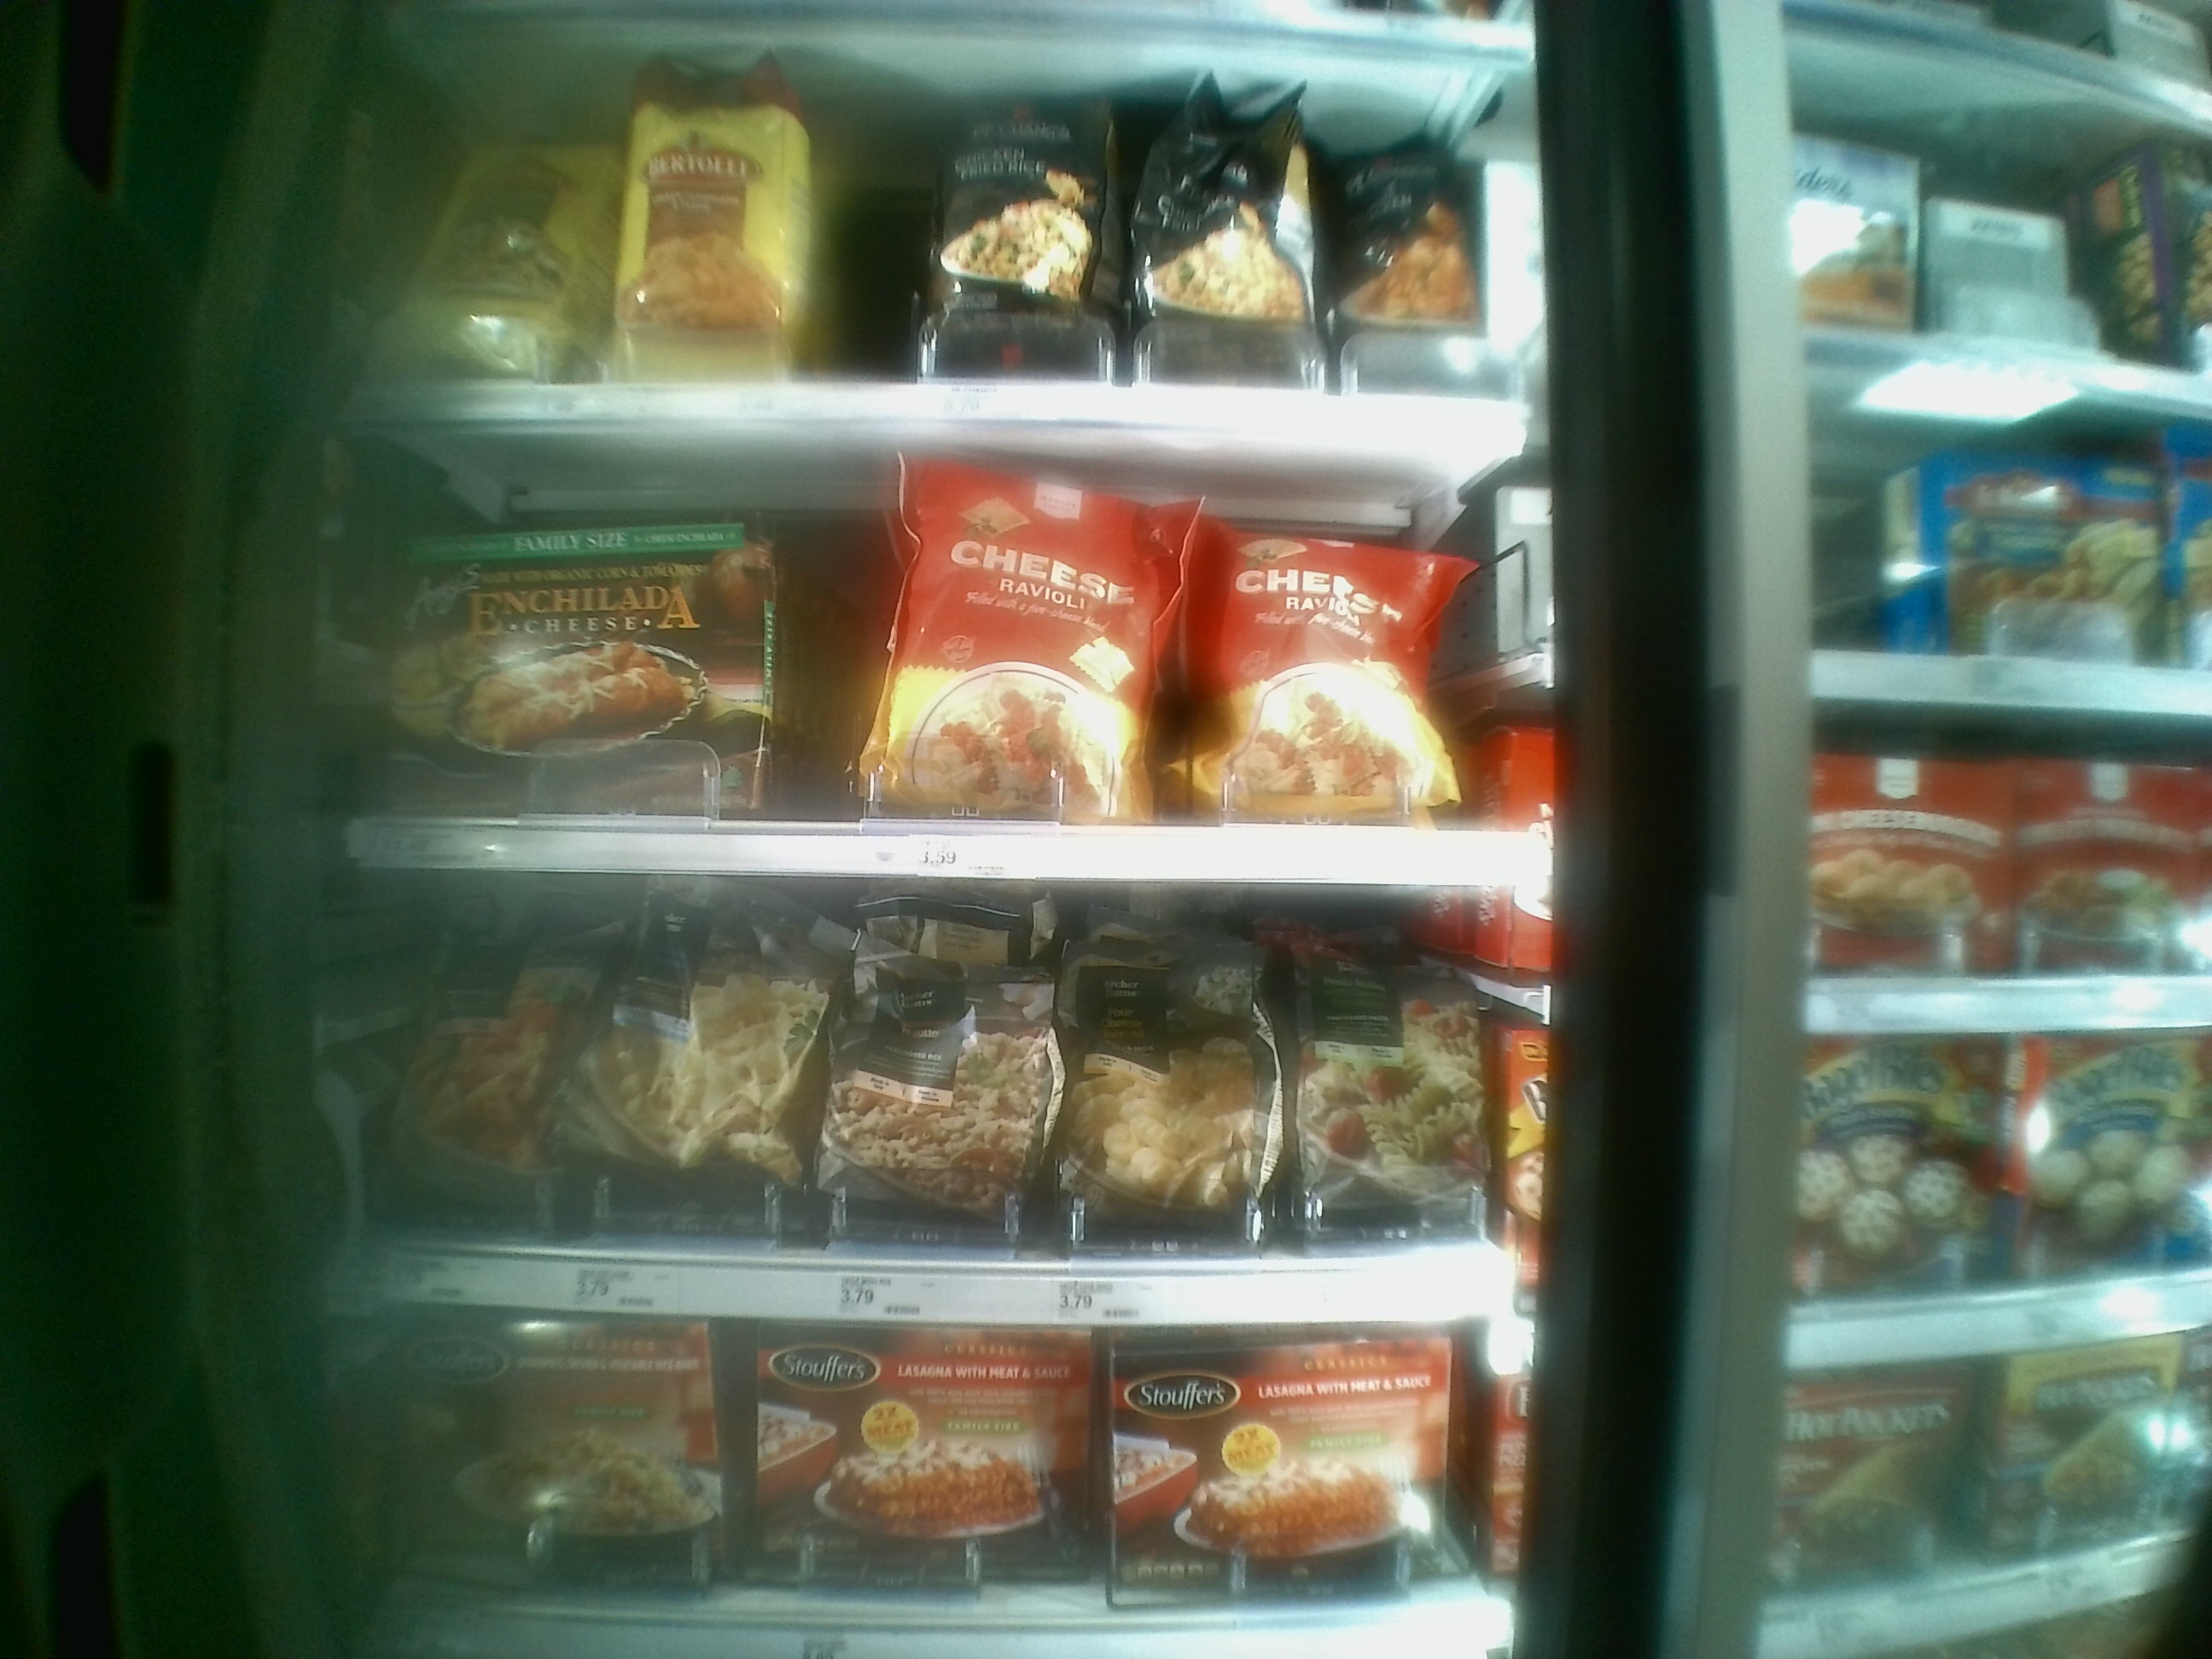frozen-food-shelf: (340, 458, 1529, 885), (359, 897, 1541, 1323), (331, 61, 1533, 457)
